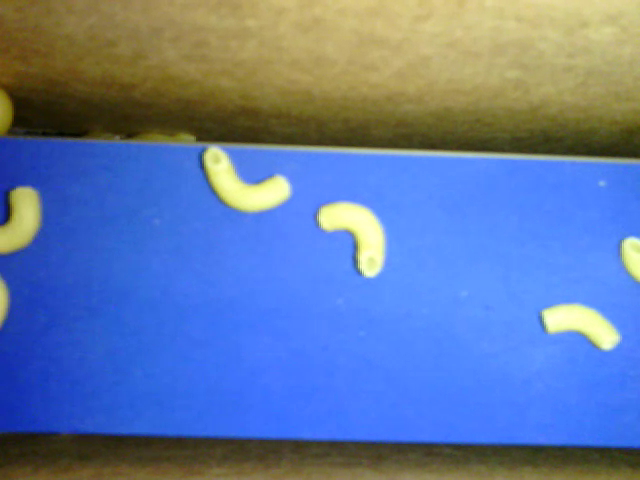elbow: (199, 146, 290, 215), (316, 201, 391, 284), (534, 298, 622, 353), (1, 185, 47, 256), (618, 234, 639, 290)
